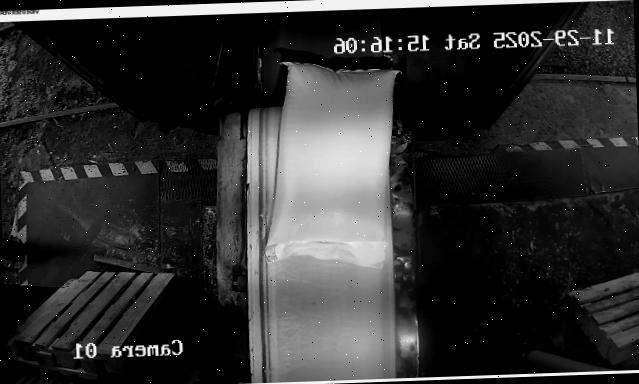bag: (255, 57, 404, 272)
